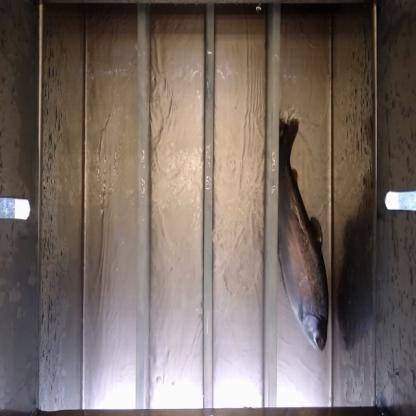pezw: (277, 106, 329, 358)
